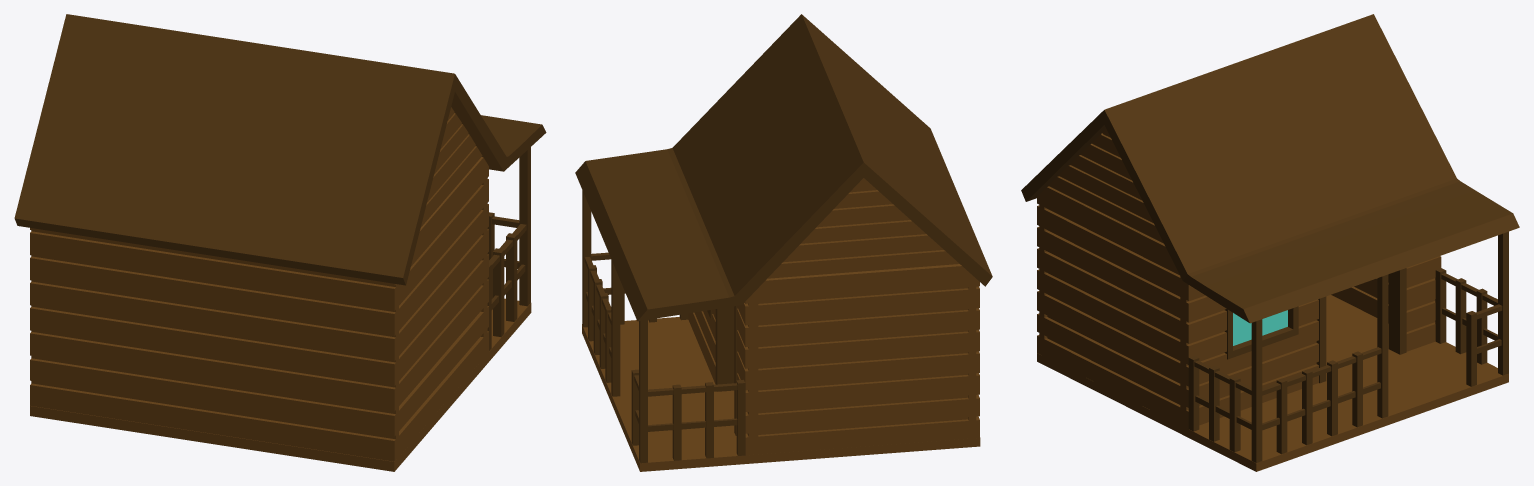
Rendered from Cabin.fbx.
The picture shows the model from 3 angles, left to right: view 1: azimuth 30°, elevation 25°; view 2: azimuth 150°, elevation 25°; view 3: azimuth 270°, elevation 25°; orthographic projection. The views are drawn at different scales.
Visible parts, largest first — view 1: WoodenCabin; view 2: WoodenCabin; view 3: WoodenCabin.
Boxes of the visible parts, left/top/right/bottom form: WoodenCabin: left=14, top=14, right=546, bottom=471; WoodenCabin: left=575, top=14, right=992, bottom=471; WoodenCabin: left=1021, top=14, right=1519, bottom=471.
Bounding box in the file's own units: 530 × 343 × 529.
